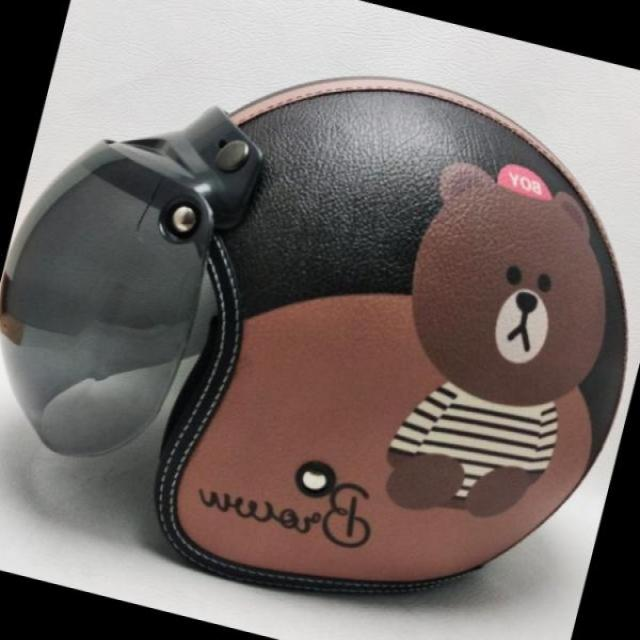Helmet: (13, 72, 610, 594)
